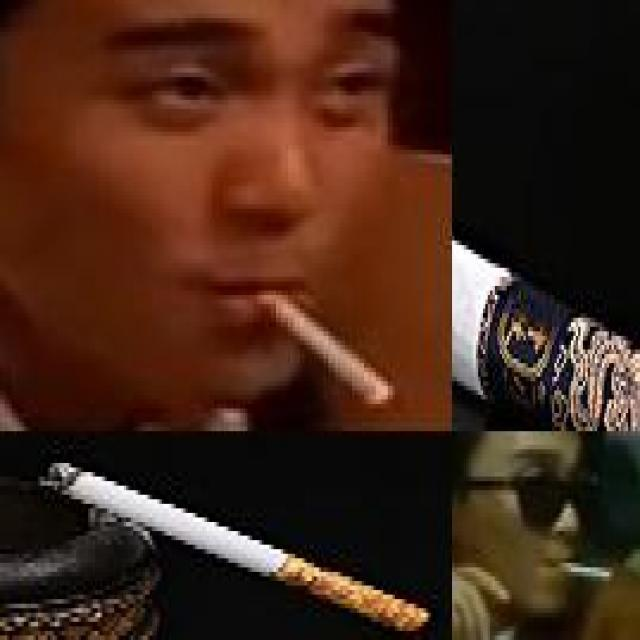cigarette: (36, 461, 430, 634), (452, 81, 638, 426), (452, 218, 638, 427), (244, 279, 394, 406), (548, 558, 615, 581)
